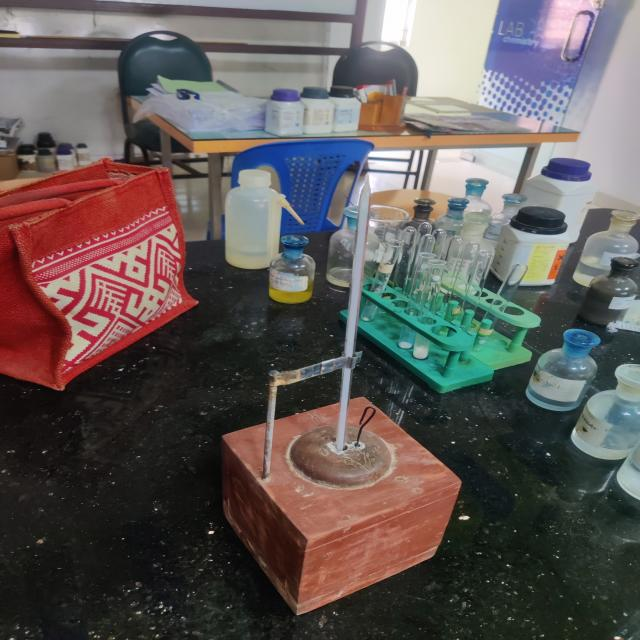Calorimeter: (144, 154, 488, 640)
